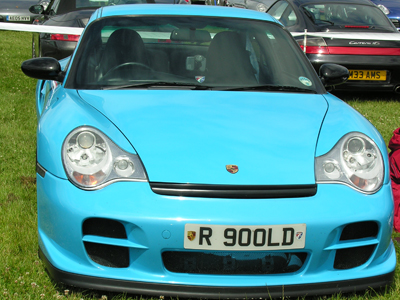licencePlate: (183, 225, 305, 251)
